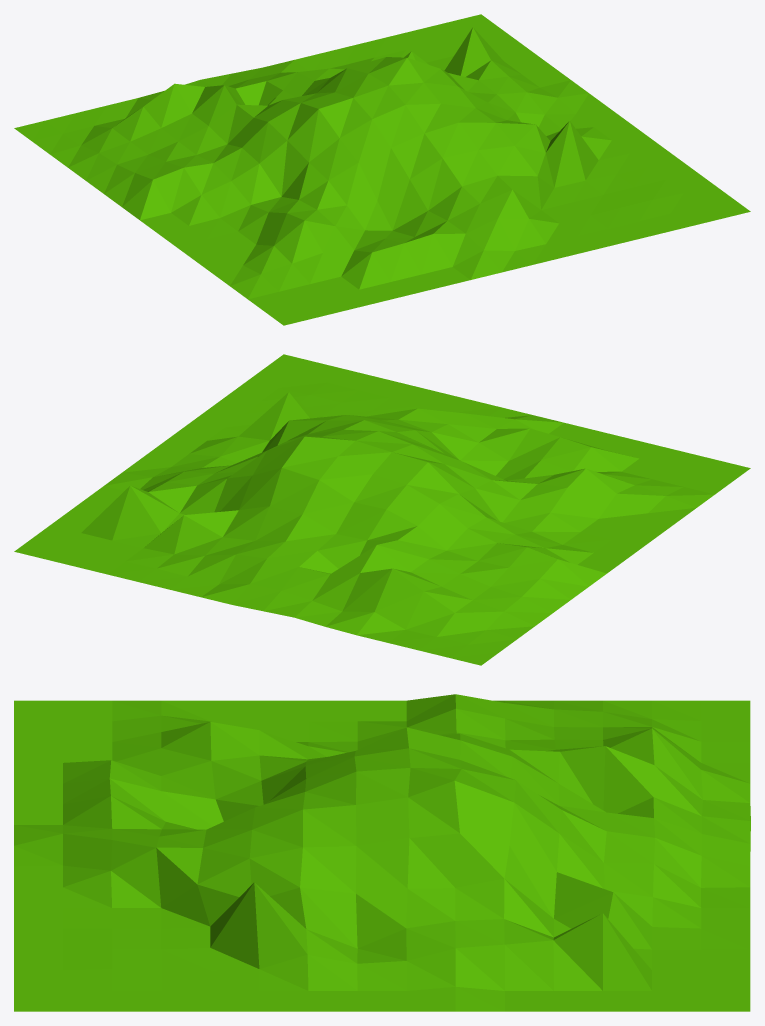
File: testLand.FBX
3 renders of one model, top to bottom at view 1: azimuth 30°, elevation 25°; view 2: azimuth 150°, elevation 25°; view 3: azimuth 270°, elevation 25°, orthographic. The views are drawn at different scales.
Parts seen in each view (by area): view 1: Plane082; view 2: Plane082; view 3: Plane082.
Part boxes in pixels (left/top/right/bottom): Plane082: left=14, top=14, right=750, bottom=325; Plane082: left=14, top=354, right=750, bottom=665; Plane082: left=14, top=694, right=750, bottom=1011.
Size of the model in its own units: 2425 by 2428 by 442.
